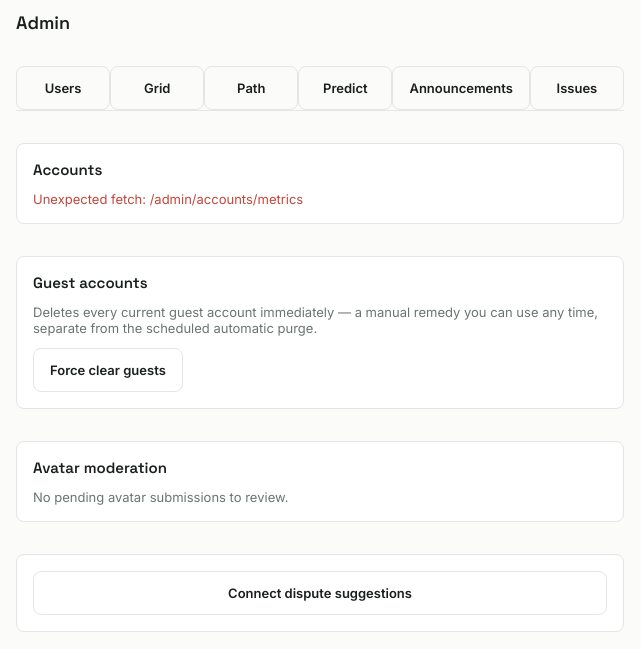
AdminScreen › REQ-503: renders each unverified row as "name · field · value · source"
Click the tab "Grid".
click(157, 88)  # box [110,66,204,110]
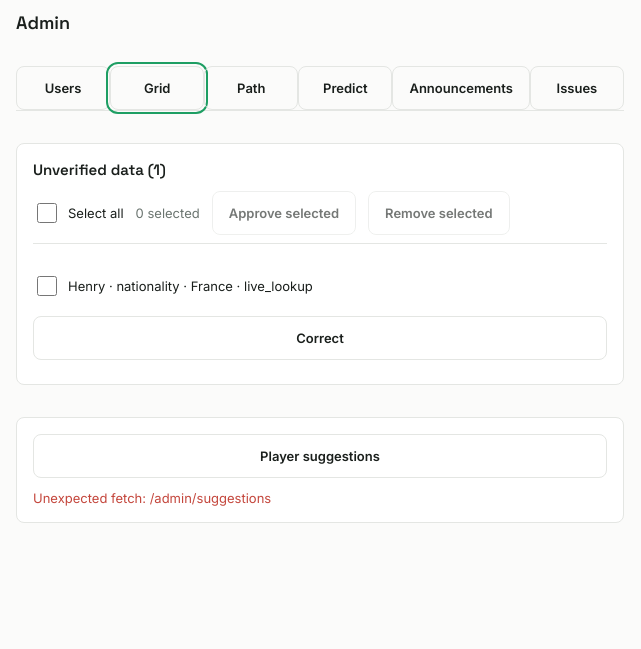
Check: the heading "Unverified data (1)" is shown, box [33,160,166,179]
Check: the text "Henry · nationality · France · live_lookup" is shown, box [68,278,313,294]
